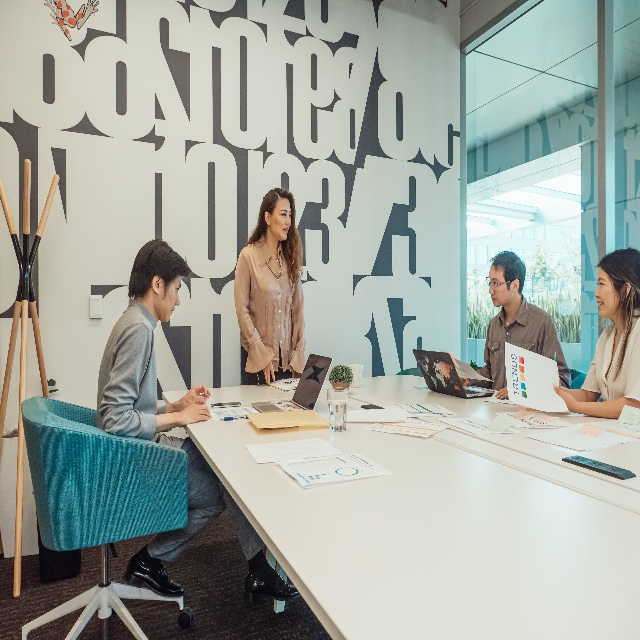Gafas: (485, 276, 511, 291)
Sin_guantes: (178, 403, 212, 428), (180, 384, 211, 410), (553, 384, 575, 412), (263, 356, 280, 387), (495, 386, 509, 400)
